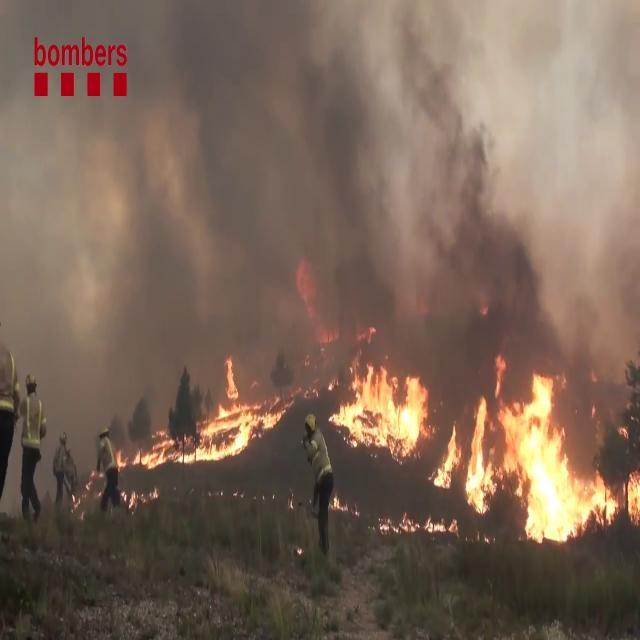Fire: (433, 360, 639, 546), (332, 347, 429, 453), (196, 360, 289, 462), (121, 426, 197, 474)
Smoke: (6, 0, 640, 368)
